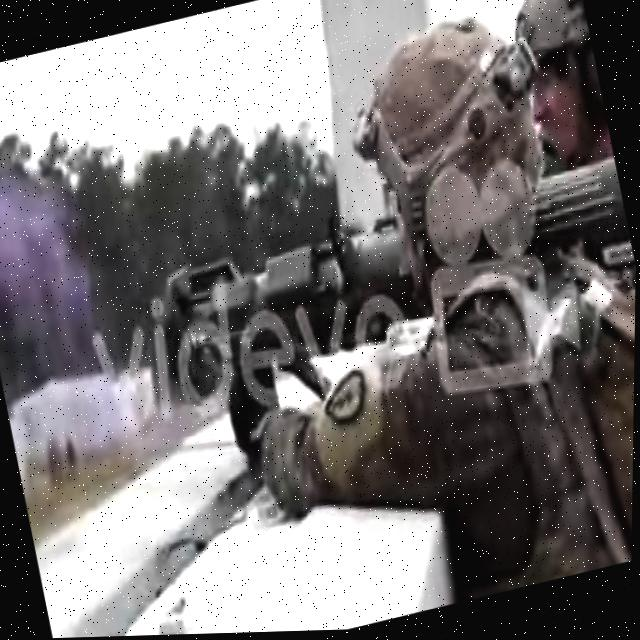rocket: (135, 182, 434, 416)
